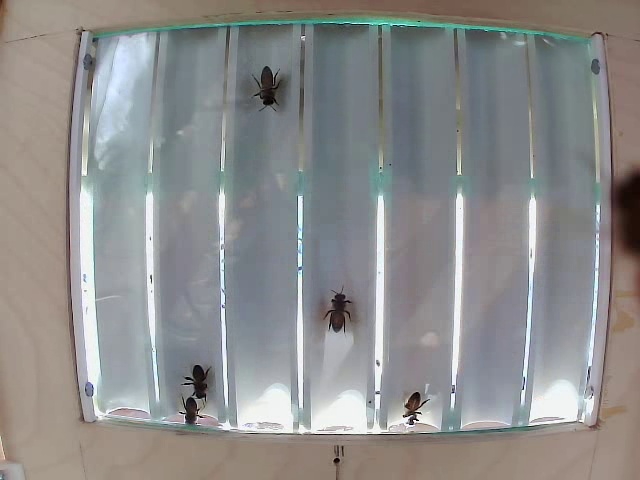bee: (256, 69, 297, 143), (316, 277, 355, 326), (395, 379, 427, 430), (182, 367, 216, 399)
